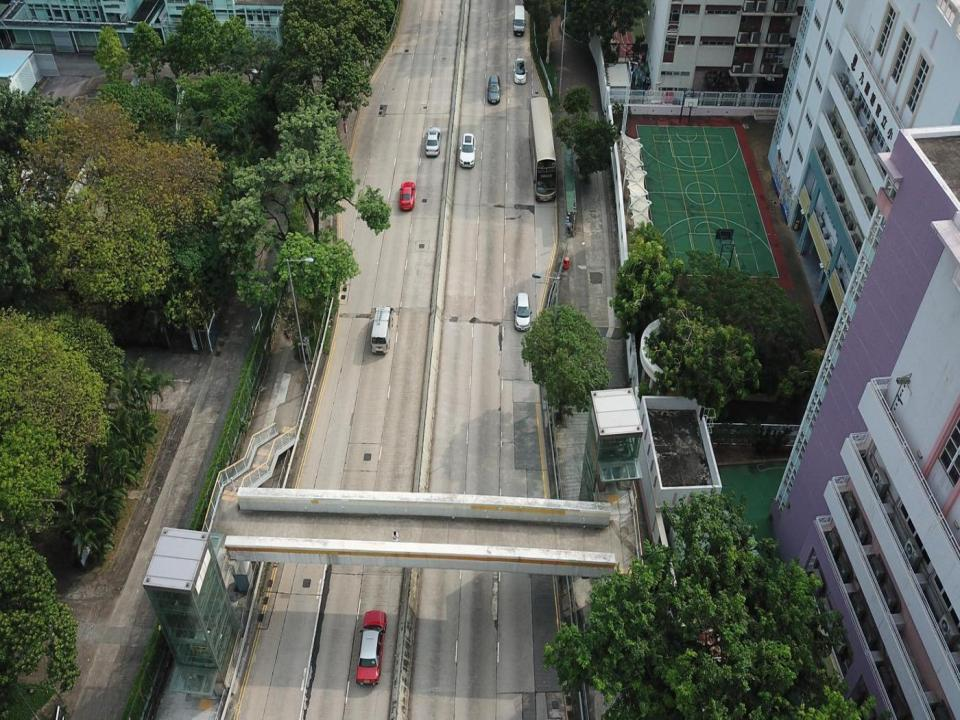bus: (529, 97, 556, 203)
car: (356, 612, 387, 686), (514, 291, 532, 330), (458, 133, 476, 167), (399, 182, 416, 211), (426, 126, 440, 156), (512, 58, 528, 84), (487, 75, 500, 105)
van: (371, 305, 393, 353), (513, 4, 526, 36)
